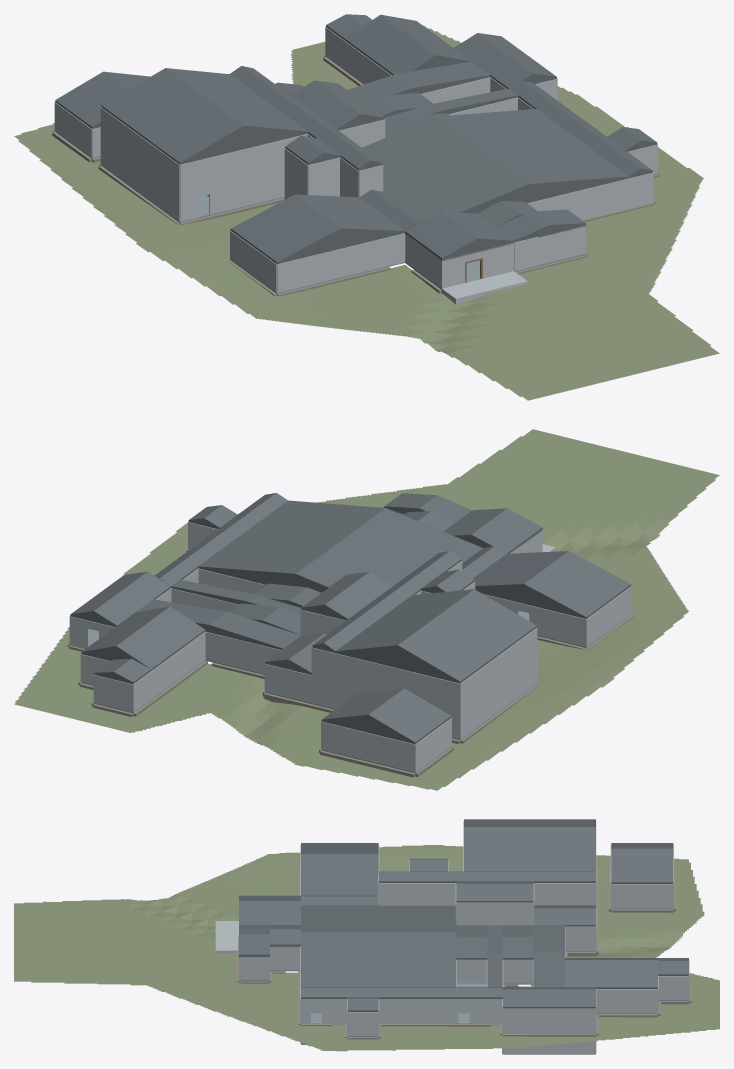
Rendered from clean-doorways.glb.
The picture shows the model from 3 angles, top to bottom: view 1: azimuth 30°, elevation 25°; view 2: azimuth 150°, elevation 25°; view 3: azimuth 270°, elevation 25°; orthographic projection. The views are drawn at different scales.
Parts seen in each view (by area): view 1: Saved editor macroterrain ASYLUM, clinical-and-dining roof west, clinical-and-dining roof east, two-storey-ward roof west, day-pavilion roof west, Wall day S, two-storey-ward roof east, quiet-pavilion roof west, upper-spine roof west, Wall meal-return S, day-pavilion roof east, service-corridor roof west (+43 smaller); view 2: Saved editor macroterrain ASYLUM, clinical-and-dining roof east, clinical-and-dining roof west, two-storey-ward roof west, day-pavilion roof west, two-storey-ward roof east, quiet-pavilion roof west, Wall chapel N, chapel roof west, upper-spine roof west, service-corridor roof west, day-pavilion roof east (+41 smaller); view 3: Saved editor macroterrain ASYLUM, clinical-and-dining roof east, two-storey-ward roof east, clinical-and-dining roof west, Flat route shell Wall service E, day-pavilion roof east, quiet-pavilion roof east, Wall service-stair E, upper-spine roof east, chapel roof east, service-corridor roof east, service-stair roof east (+31 smaller).
Part boxes in pixels (left/top/right/bottom): Saved editor macroterrain ASYLUM: left=14, top=25, right=719, bottom=400; clinical-and-dining roof west: left=362, top=116, right=528, bottom=220; clinical-and-dining roof east: left=437, top=109, right=628, bottom=185; two-storey-ward roof west: left=101, top=68, right=243, bottom=164; day-pavilion roof west: left=230, top=194, right=340, bottom=263; Wall day S: left=277, top=233, right=405, bottom=292; two-storey-ward roof east: left=166, top=68, right=307, bottom=133; quiet-pavilion roof west: left=344, top=15, right=435, bottom=75; upper-spine roof west: left=229, top=66, right=370, bottom=170; Wall meal-return S: left=527, top=178, right=629, bottom=218; day-pavilion roof east: left=295, top=194, right=404, bottom=232; service-corridor roof west: left=509, top=81, right=640, bottom=177; Saved editor macroterrain ASYLUM: left=14, top=429, right=719, bottom=790; clinical-and-dining roof east: left=198, top=500, right=385, bottom=575; clinical-and-dining roof west: left=295, top=508, right=482, bottom=588; two-storey-ward roof west: left=398, top=589, right=536, bottom=683; day-pavilion roof west: left=524, top=551, right=631, bottom=618; two-storey-ward roof east: left=335, top=589, right=473, bottom=652; quiet-pavilion roof west: left=116, top=606, right=205, bottom=669; Wall chapel N: left=321, top=721, right=415, bottom=772; chapel roof west: left=368, top=688, right=451, bottom=743; upper-spine roof west: left=324, top=551, right=461, bottom=652; service-corridor roof west: left=159, top=493, right=287, bottom=585; day-pavilion roof east: left=473, top=551, right=568, bottom=587; Saved editor macroterrain ASYLUM: left=14, top=845, right=719, bottom=1051; clinical-and-dining roof east: left=301, top=932, right=456, bottom=987; two-storey-ward roof east: left=464, top=827, right=595, bottom=871; clinical-and-dining roof west: left=301, top=905, right=456, bottom=932; Flat route shell Wall service E: left=322, top=999, right=501, bottom=1022; day-pavilion roof east: left=301, top=854, right=378, bottom=895; quiet-pavilion roof east: left=565, top=960, right=657, bottom=988; Wall service-stair E: left=502, top=1008, right=595, bottom=1032; upper-spine roof east: left=378, top=872, right=595, bottom=882; chapel roof east: left=611, top=848, right=673, bottom=883; service-corridor roof east: left=301, top=988, right=502, bottom=998; service-stair roof east: left=502, top=989, right=595, bottom=1008.
Bounding box in the file's own units: 62 × 12.8 × 91.
Materials: 24 (15 with a texture image).
